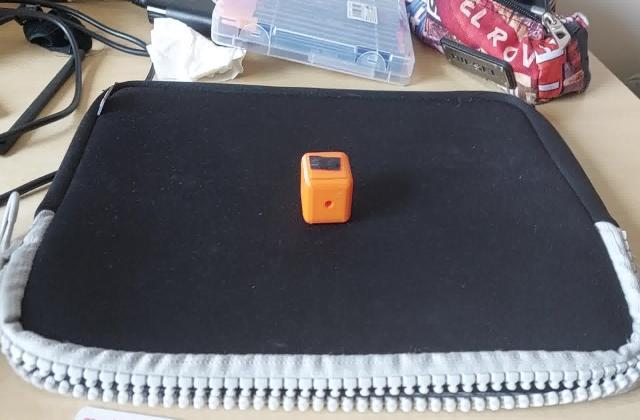black: (306, 152, 344, 176)
cube: (297, 149, 353, 227)
